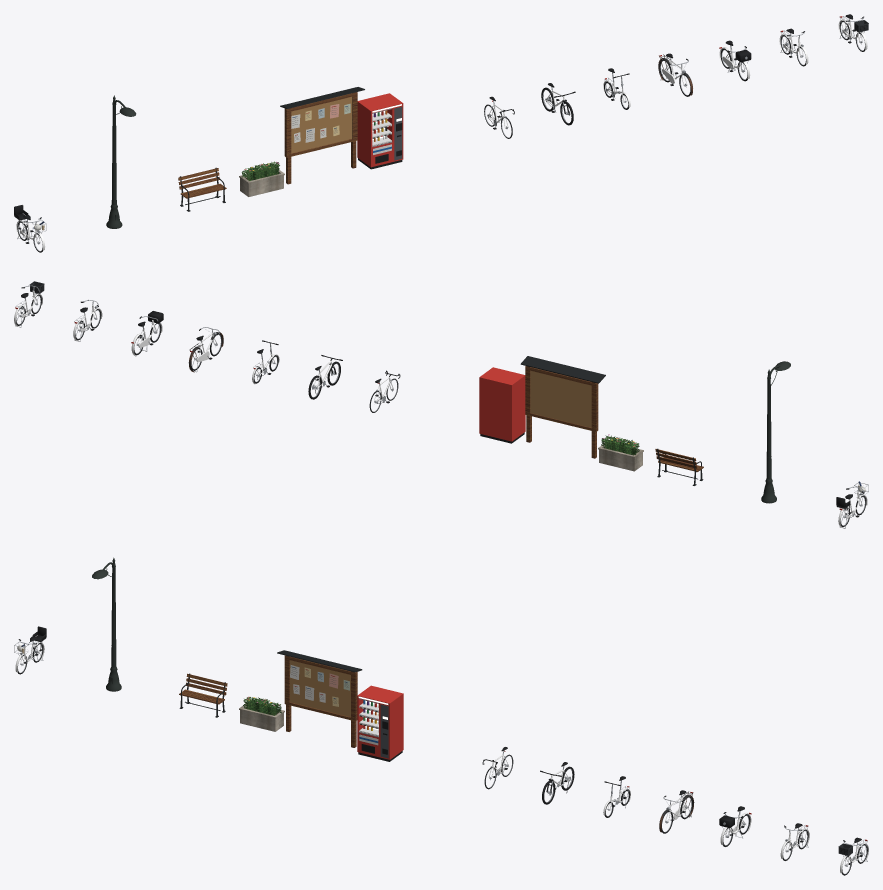
Rendered from street_props.glb.
The picture shows the model from 3 angles, top to bottom: view 1: azimuth 30°, elevation 25°; view 2: azimuth 150°, elevation 25°; view 3: azimuth 330°, elevation 25°; orthographic projection.
Visible parts, largest first — view 1: bulletin_board, vending_machine, planter_box, bench_park, lamp_post, bike_share, bike_old, bike_city_pbask, bike_mtb, bike_city, bike_city_open; view 2: bulletin_board, vending_machine, planter_box, lamp_post, bench_park, bike_share, bike_old, bike_city_pbask, bike_mtb, bike_city, bike_city_open; view 3: bulletin_board, vending_machine, planter_box, bench_park, lamp_post, bike_share, bike_old.
Boxes of the visible parts, <box> form: bulletin_board: <box>280,87,364,184</box>; vending_machine: <box>357,93,403,169</box>; planter_box: <box>239,161,284,196</box>; bench_park: <box>178,167,226,211</box>; lamp_post: <box>106,95,136,228</box>; bike_share: <box>719,40,751,81</box>; bike_old: <box>658,53,692,96</box>; bike_city_pbask: <box>838,14,868,51</box>; bike_mtb: <box>541,83,575,125</box>; bike_city: <box>16,215,46,252</box>; bike_city_open: <box>779,28,808,66</box>; bulletin_board: <box>520,356,605,458</box>; vending_machine: <box>479,367,525,443</box>; planter_box: <box>598,434,643,471</box>; lamp_post: <box>761,361,790,503</box>; bench_park: <box>655,448,703,485</box>; bike_share: <box>131,311,163,356</box>; bike_old: <box>188,327,223,372</box>; bike_city_pbask: <box>14,281,44,327</box>; bike_mtb: <box>308,355,342,399</box>; bike_city: <box>838,482,868,528</box>; bike_city_open: <box>73,299,102,341</box>; bulletin_board: <box>277,650,362,747</box>; vending_machine: <box>357,685,403,761</box>; planter_box: <box>239,696,284,731</box>; bench_park: <box>179,673,227,717</box>; lamp_post: <box>92,557,121,691</box>; bike_share: <box>719,806,751,846</box>; bike_old: <box>659,790,694,833</box>.
Bounding box in the file's own units: 28.45 × 4.25 × 2.1.
Materials: 17 (4 with a texture image).
